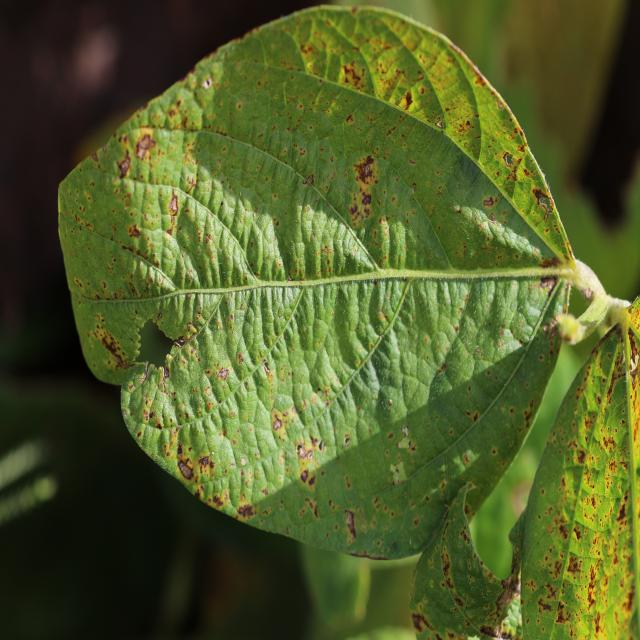Bacterial_Blight: (587, 487, 636, 630), (492, 140, 550, 221), (64, 181, 116, 266), (174, 433, 228, 497), (385, 424, 419, 492), (292, 430, 327, 491), (95, 324, 132, 369), (358, 151, 378, 224), (604, 354, 629, 408), (165, 189, 181, 235), (340, 62, 366, 90), (585, 564, 598, 606), (384, 114, 406, 136), (135, 133, 153, 159), (270, 408, 286, 434), (344, 510, 357, 540), (117, 154, 131, 178), (398, 90, 414, 110), (566, 555, 582, 575), (441, 549, 451, 579), (601, 434, 616, 454), (457, 118, 473, 135), (537, 598, 554, 613), (523, 406, 534, 428), (616, 502, 627, 524), (482, 195, 498, 209), (575, 448, 587, 465), (558, 523, 569, 541), (216, 367, 230, 381), (75, 278, 84, 290), (345, 113, 354, 124), (237, 352, 244, 364), (472, 412, 479, 423), (463, 454, 470, 465), (74, 213, 81, 223), (491, 447, 497, 456)
Soybean: (59, 8, 574, 559)
